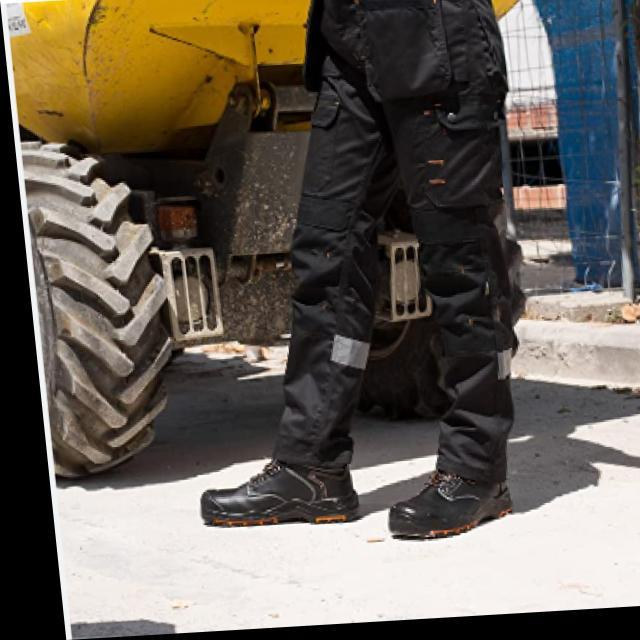boots: (188, 428, 523, 556)
